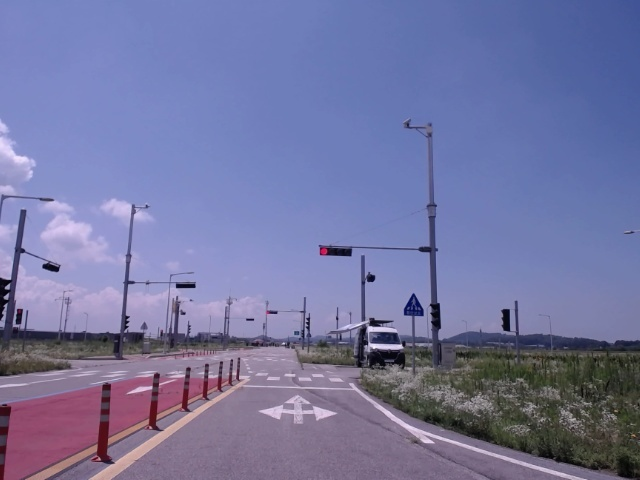red_4: (319, 247, 353, 257)
